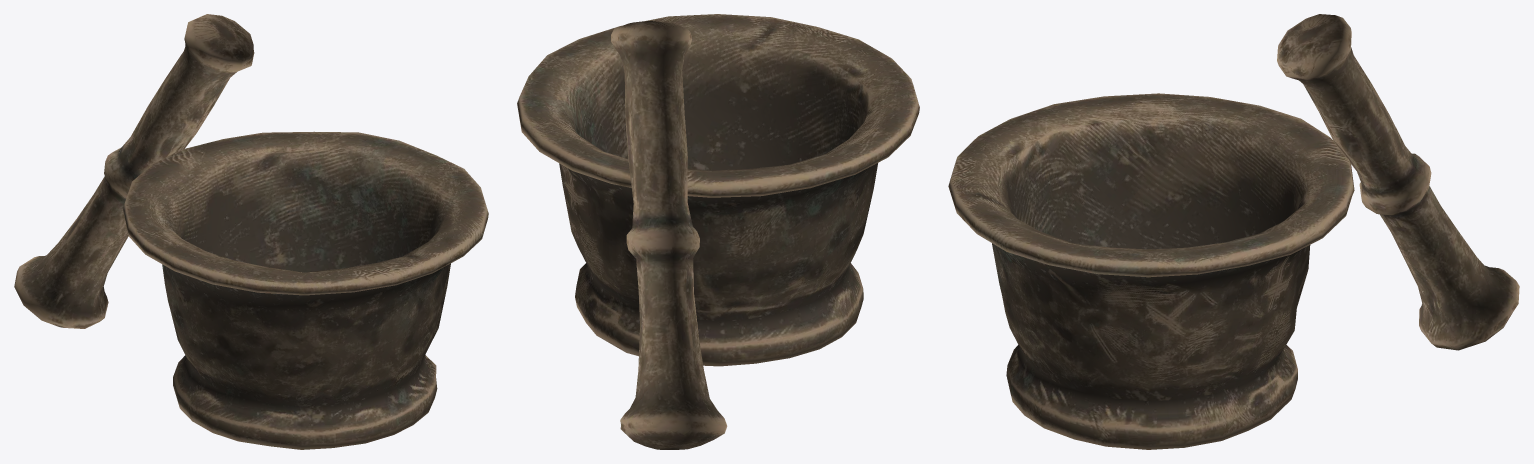
The model's file is mortero glb.draco.glb.
3 renders of one model, left to right at view 1: azimuth 30°, elevation 25°; view 2: azimuth 150°, elevation 25°; view 3: azimuth 270°, elevation 25°, orthographic. The views are drawn at different scales.
Visible parts, largest first — view 1: mortar_pestle; view 2: mortar_pestle; view 3: mortar_pestle.
Boxes of the visible parts, bbox=[...] form: mortar_pestle: bbox=[14, 14, 488, 449]; mortar_pestle: bbox=[517, 14, 919, 449]; mortar_pestle: bbox=[948, 14, 1519, 449].
Bounding box in the file's own units: 0.5116 × 0.5041 × 0.7199.
1 material, 1 textured.
